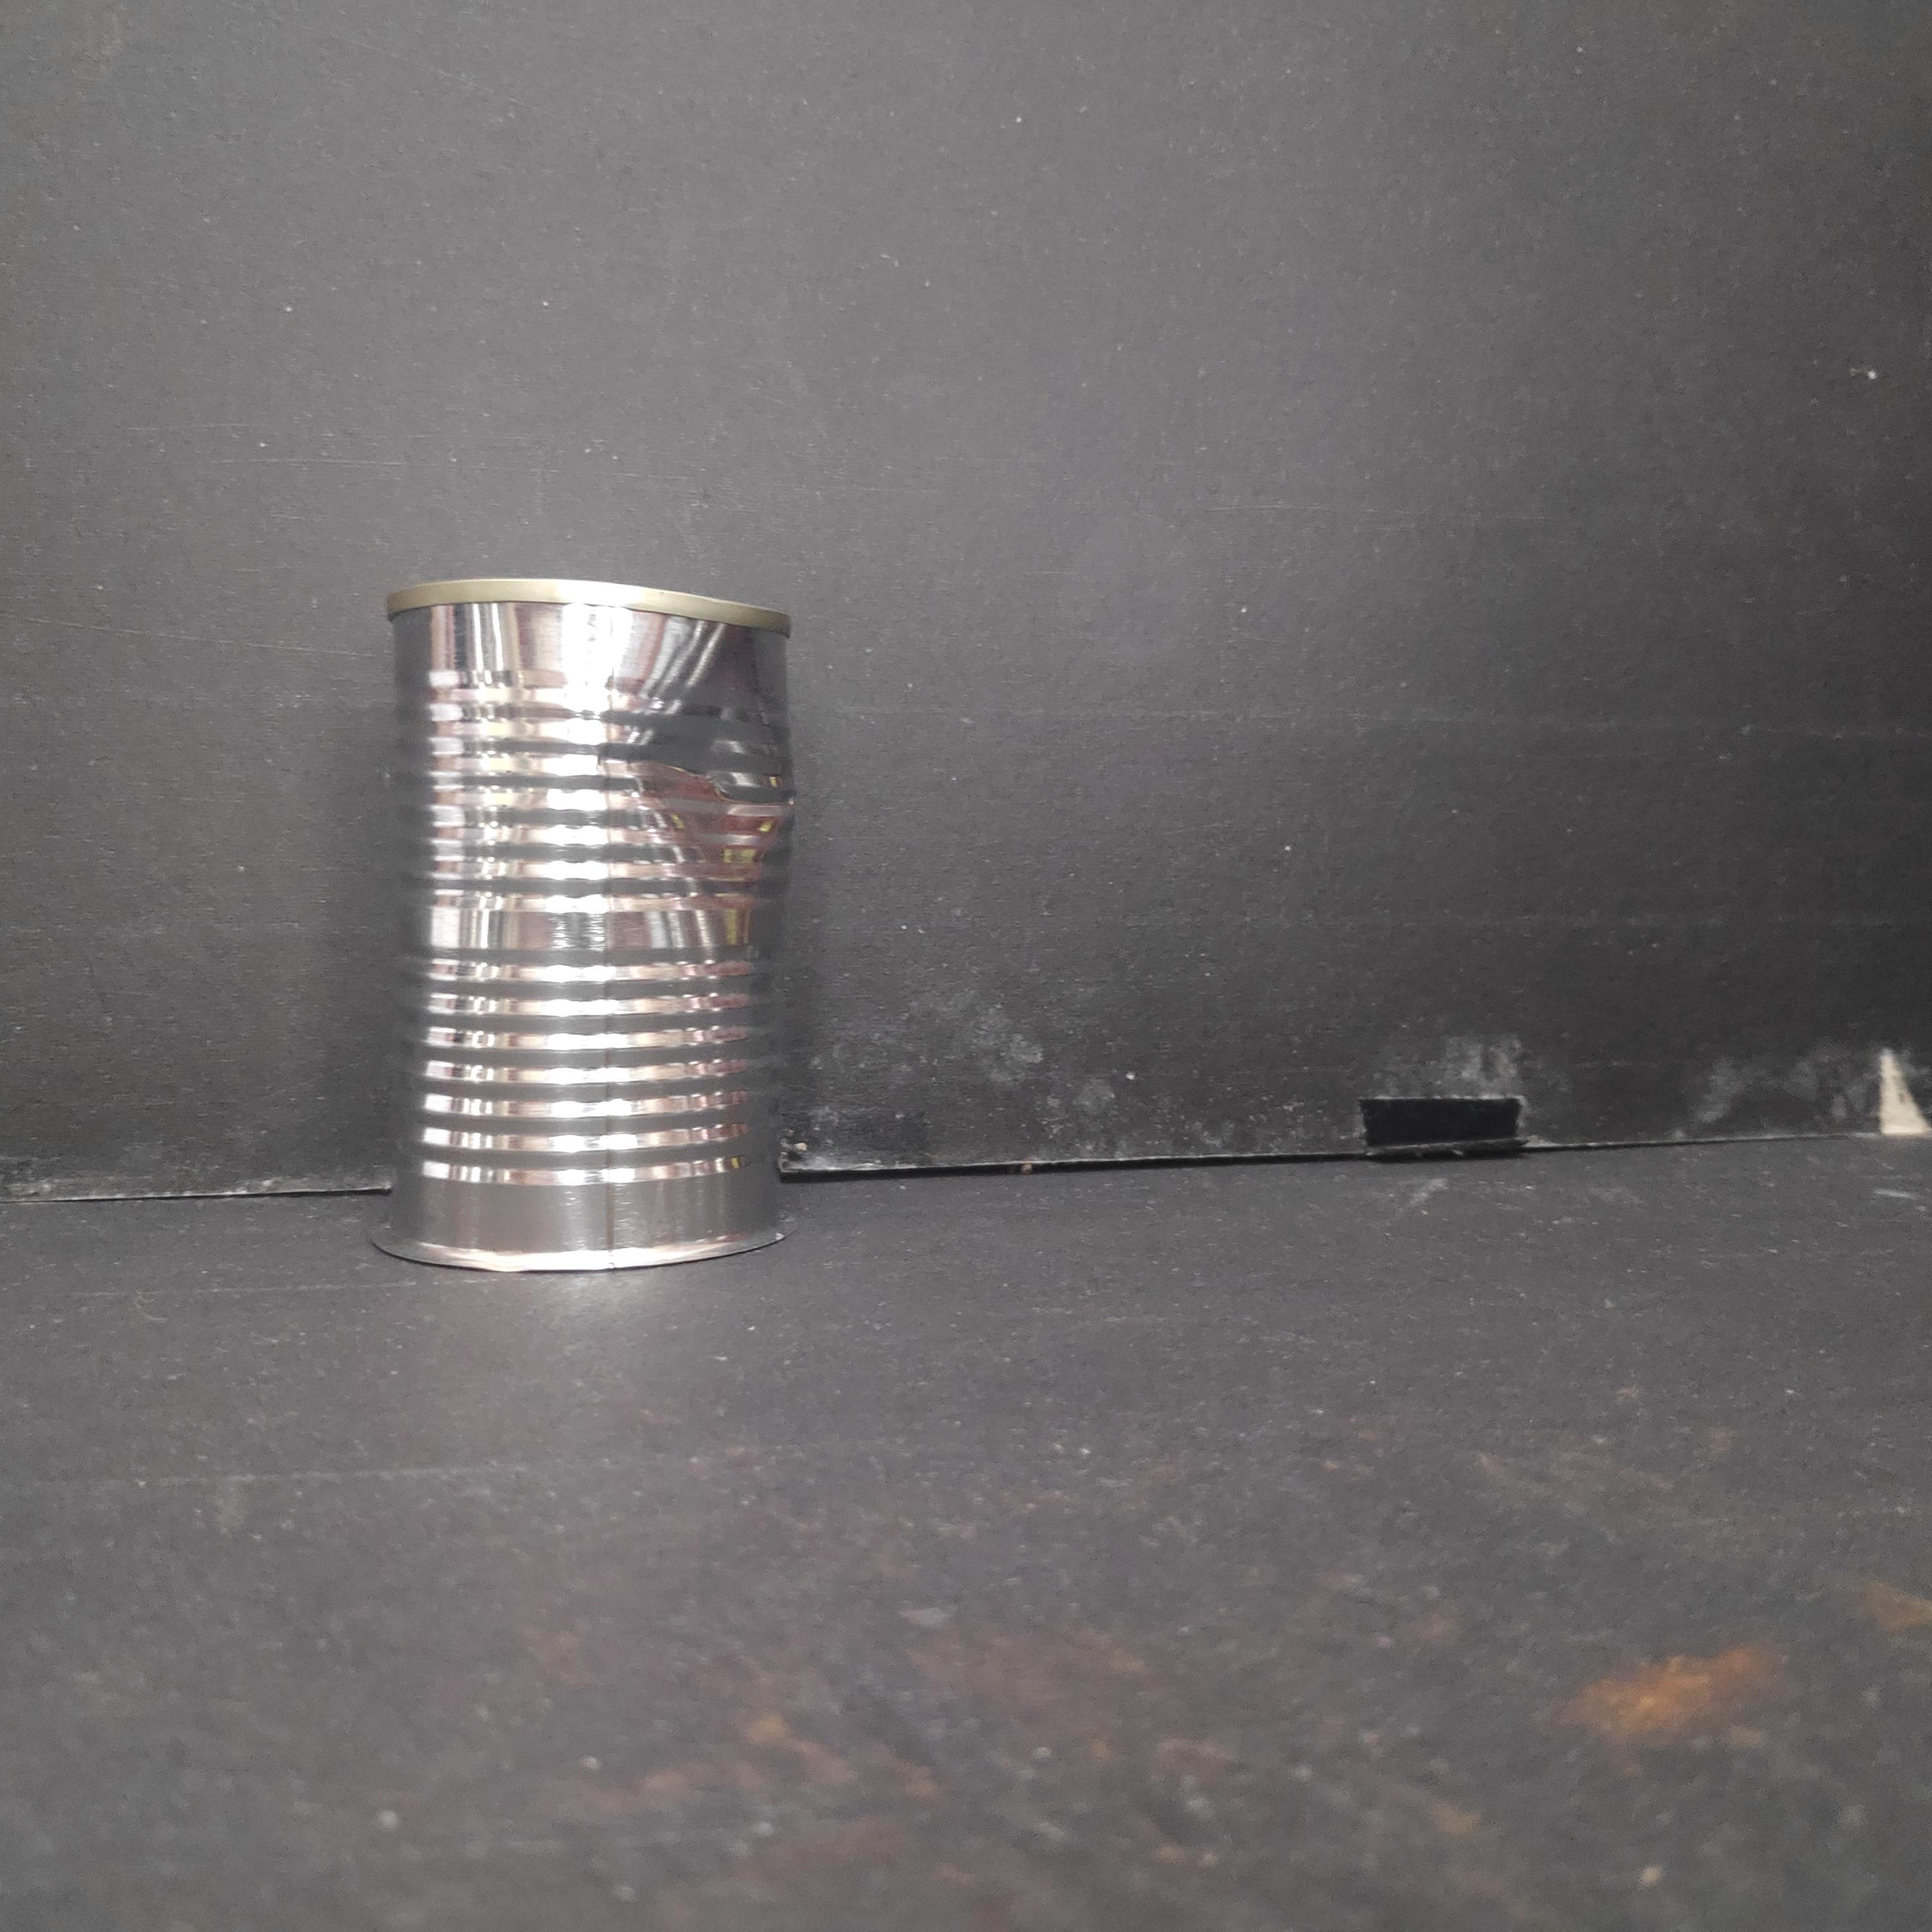Minor Defect: (375, 566, 816, 1289)
